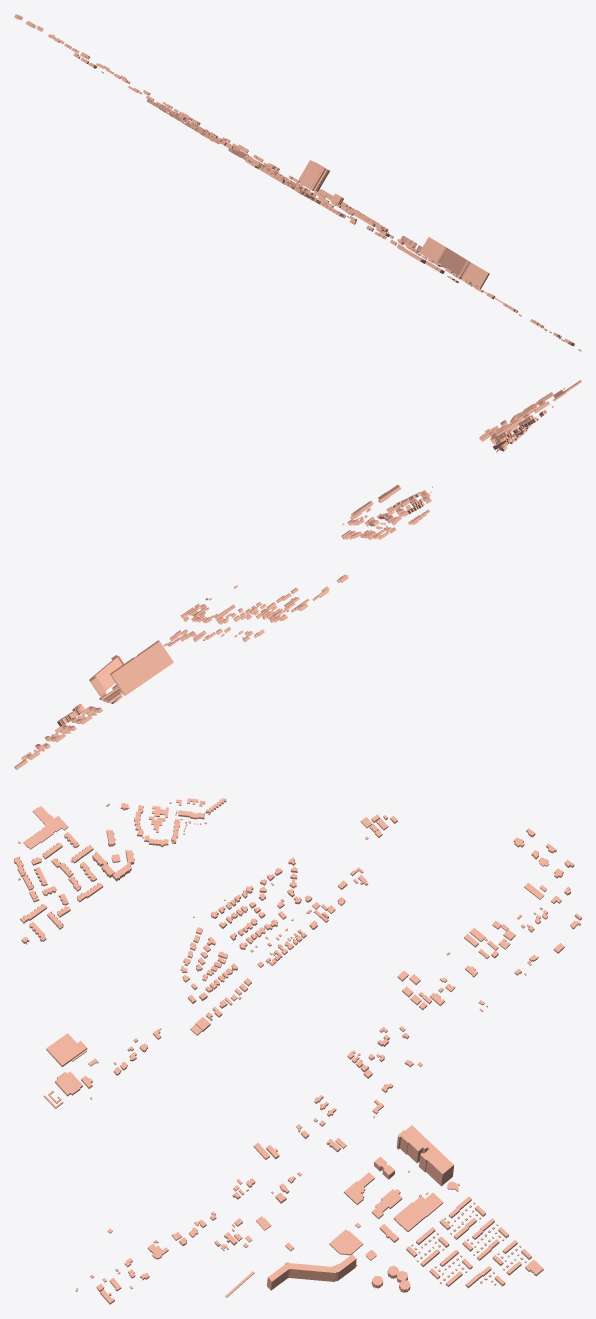
3 renders of one model, top to bottom at view 1: azimuth 30°, elevation 25°; view 2: azimuth 150°, elevation 25°; view 3: azimuth 270°, elevation 25°, orthographic. The views are drawn at different scales.
Bounding box in the file's own units: 980 × 748 × 1220.
